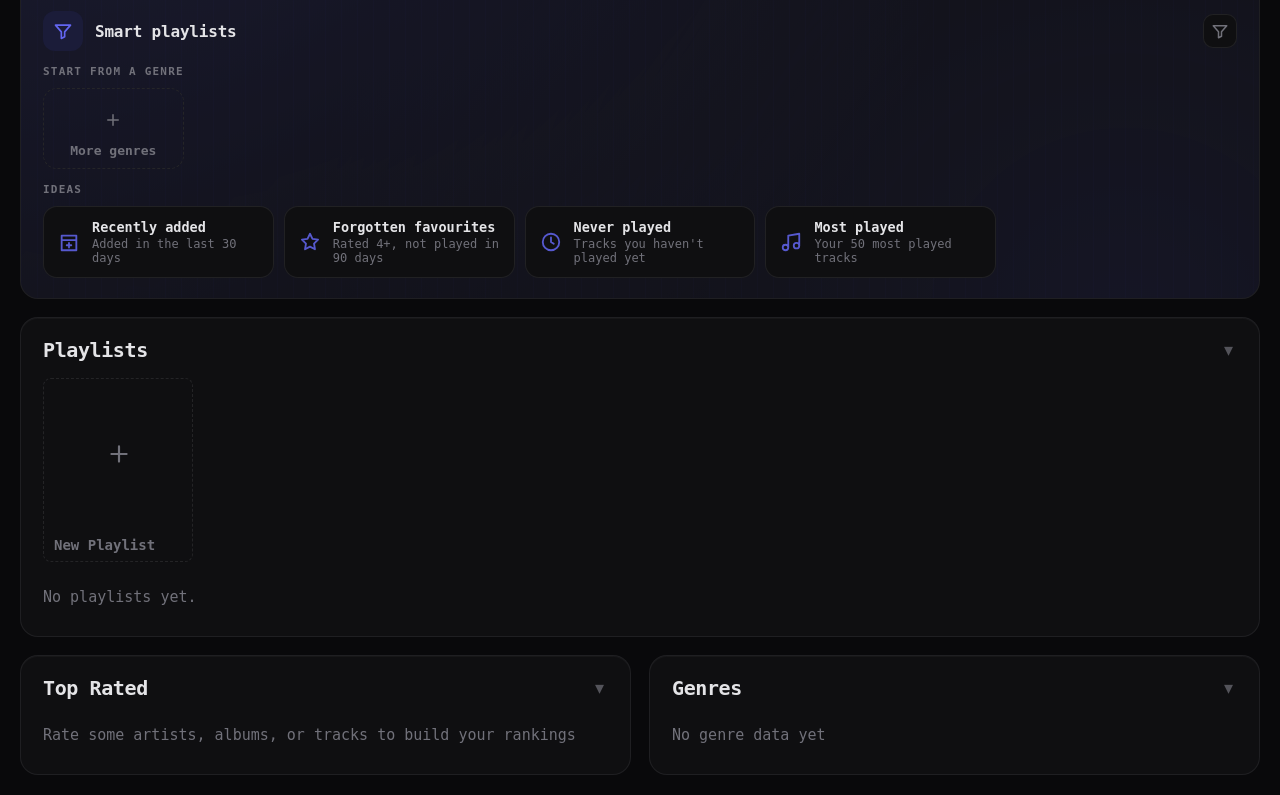
Test: HomeView playback activity tabs › updates the Home playlists pane with the newly created playlist immediately
(page scrolled)
Click the button with aria-label "Create playlist from home" at (118, 470), box [43,378,193,562]
(page scrolled)
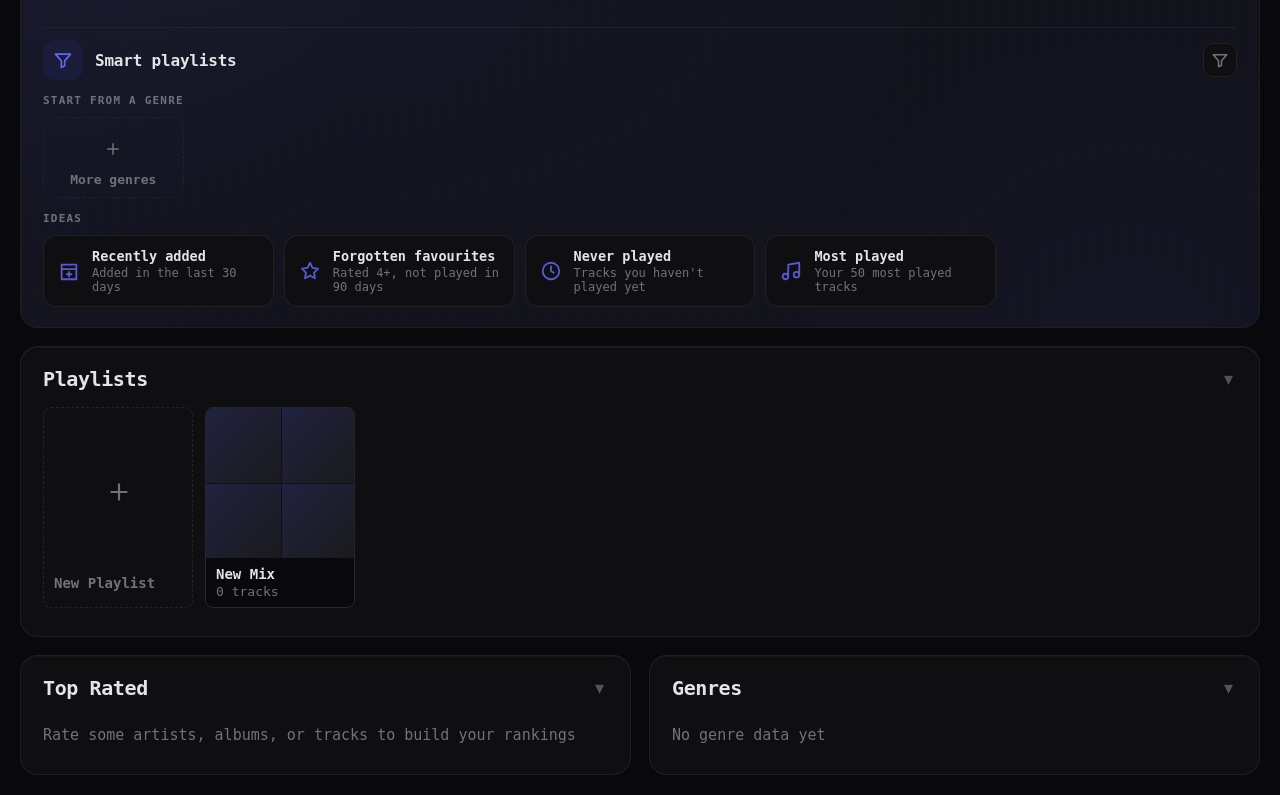
Now the text "New Mix" is shown, box [216,566,275,582]
